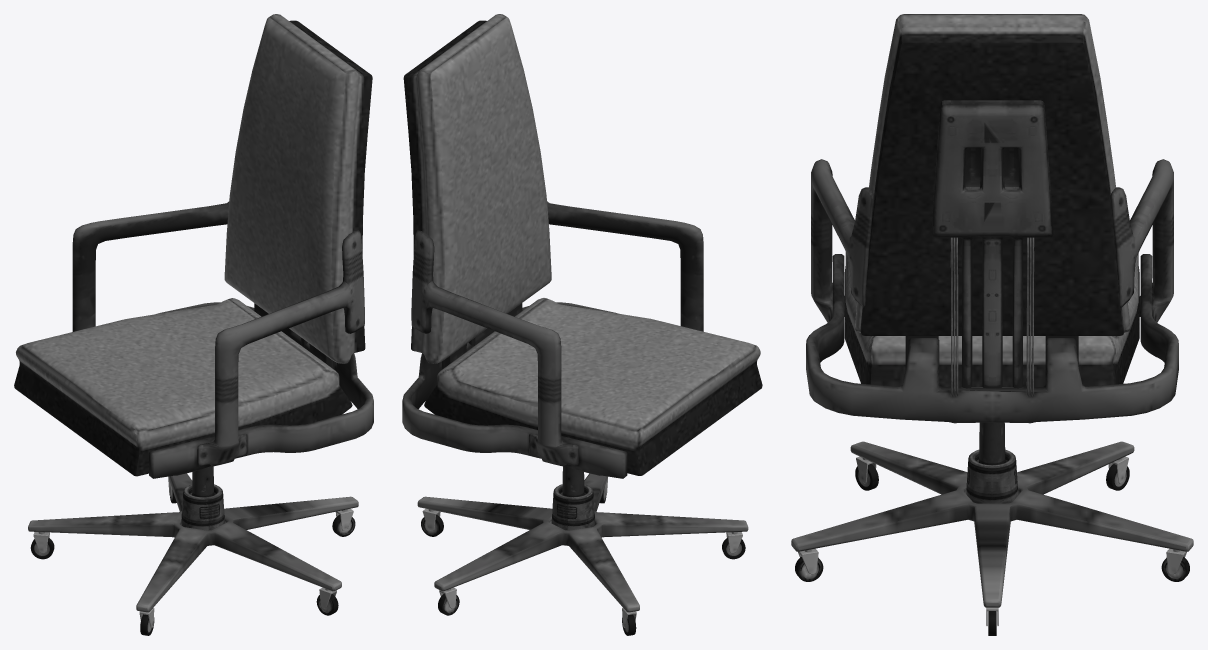
File: chair.glb
The picture shows the model from 3 angles, left to right: view 1: azimuth 30°, elevation 25°; view 2: azimuth 150°, elevation 25°; view 3: azimuth 270°, elevation 25°; orthographic projection. The views are drawn at different scales.
Parts seen in each view (by area): view 1: Cube__0; view 2: Cube__0; view 3: Cube__0.
Boxes of the visible parts, bbox=[...] form: Cube__0: bbox=[14, 14, 373, 635]; Cube__0: bbox=[402, 14, 762, 635]; Cube__0: bbox=[791, 14, 1193, 635].
Size of the model in its own units: 0.7904 by 1.34 by 0.8144.
Materials: 1 (1 with a texture image).
